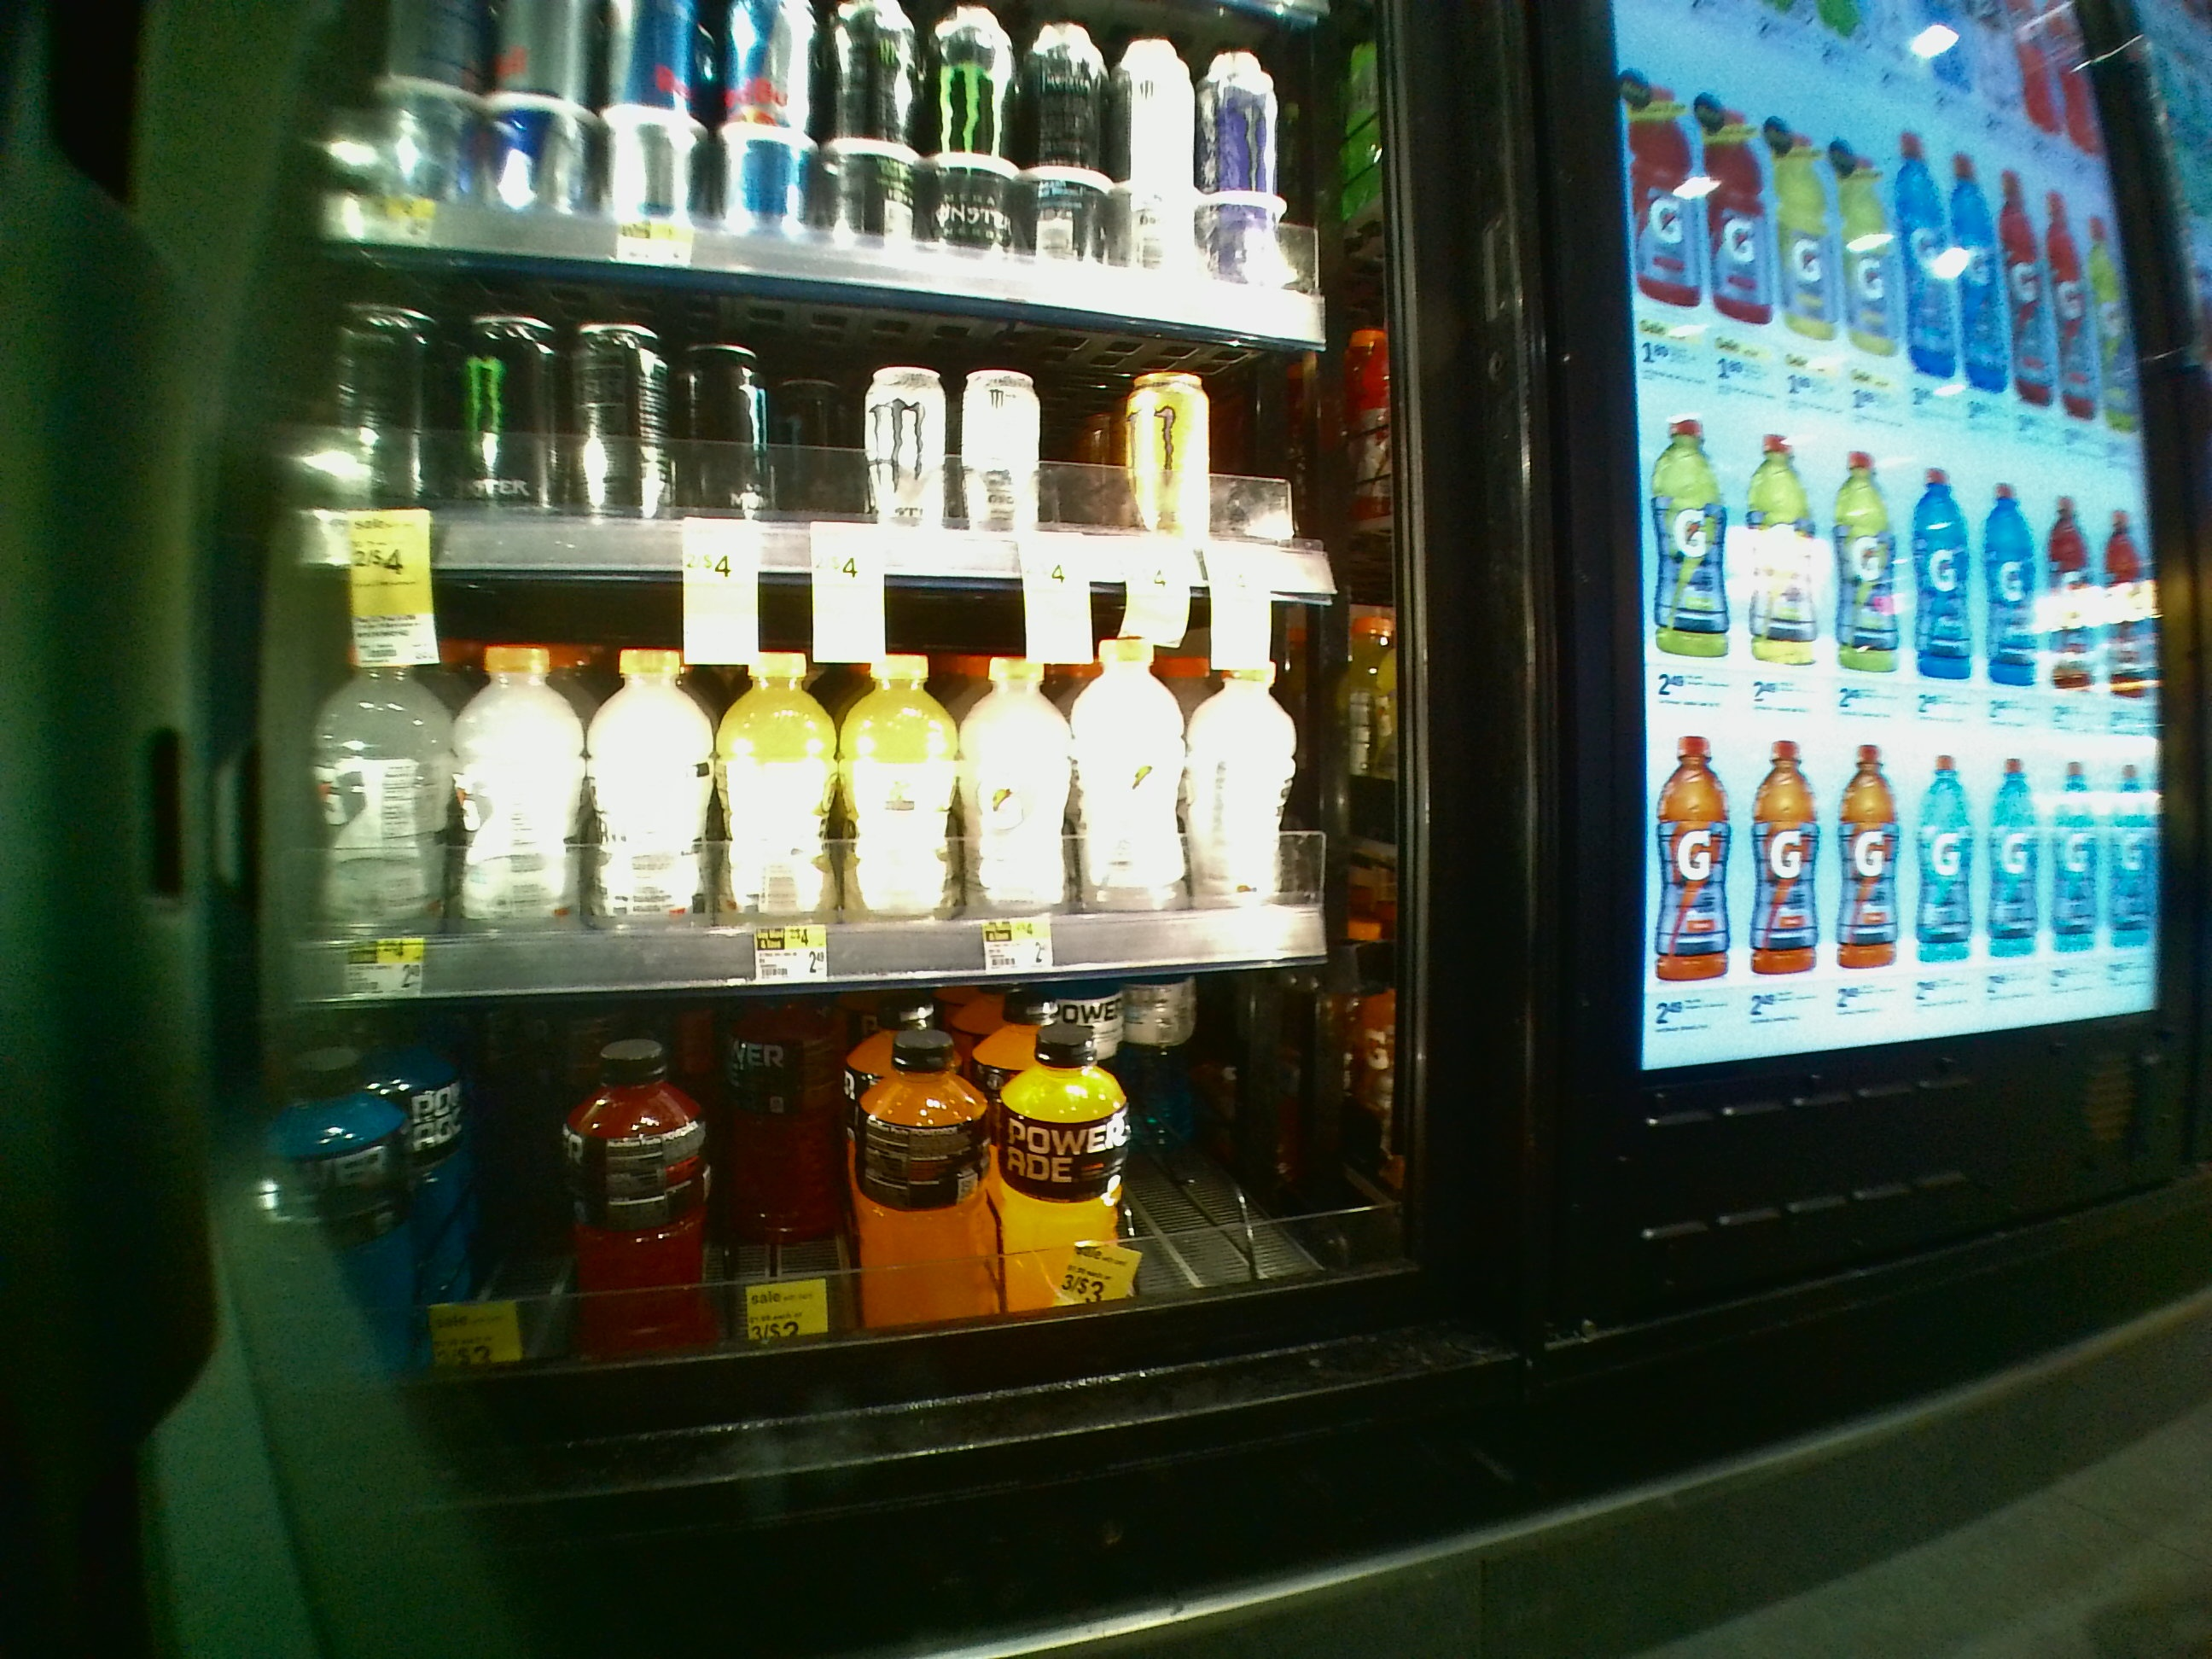shelf: (273, 566, 1399, 974)
